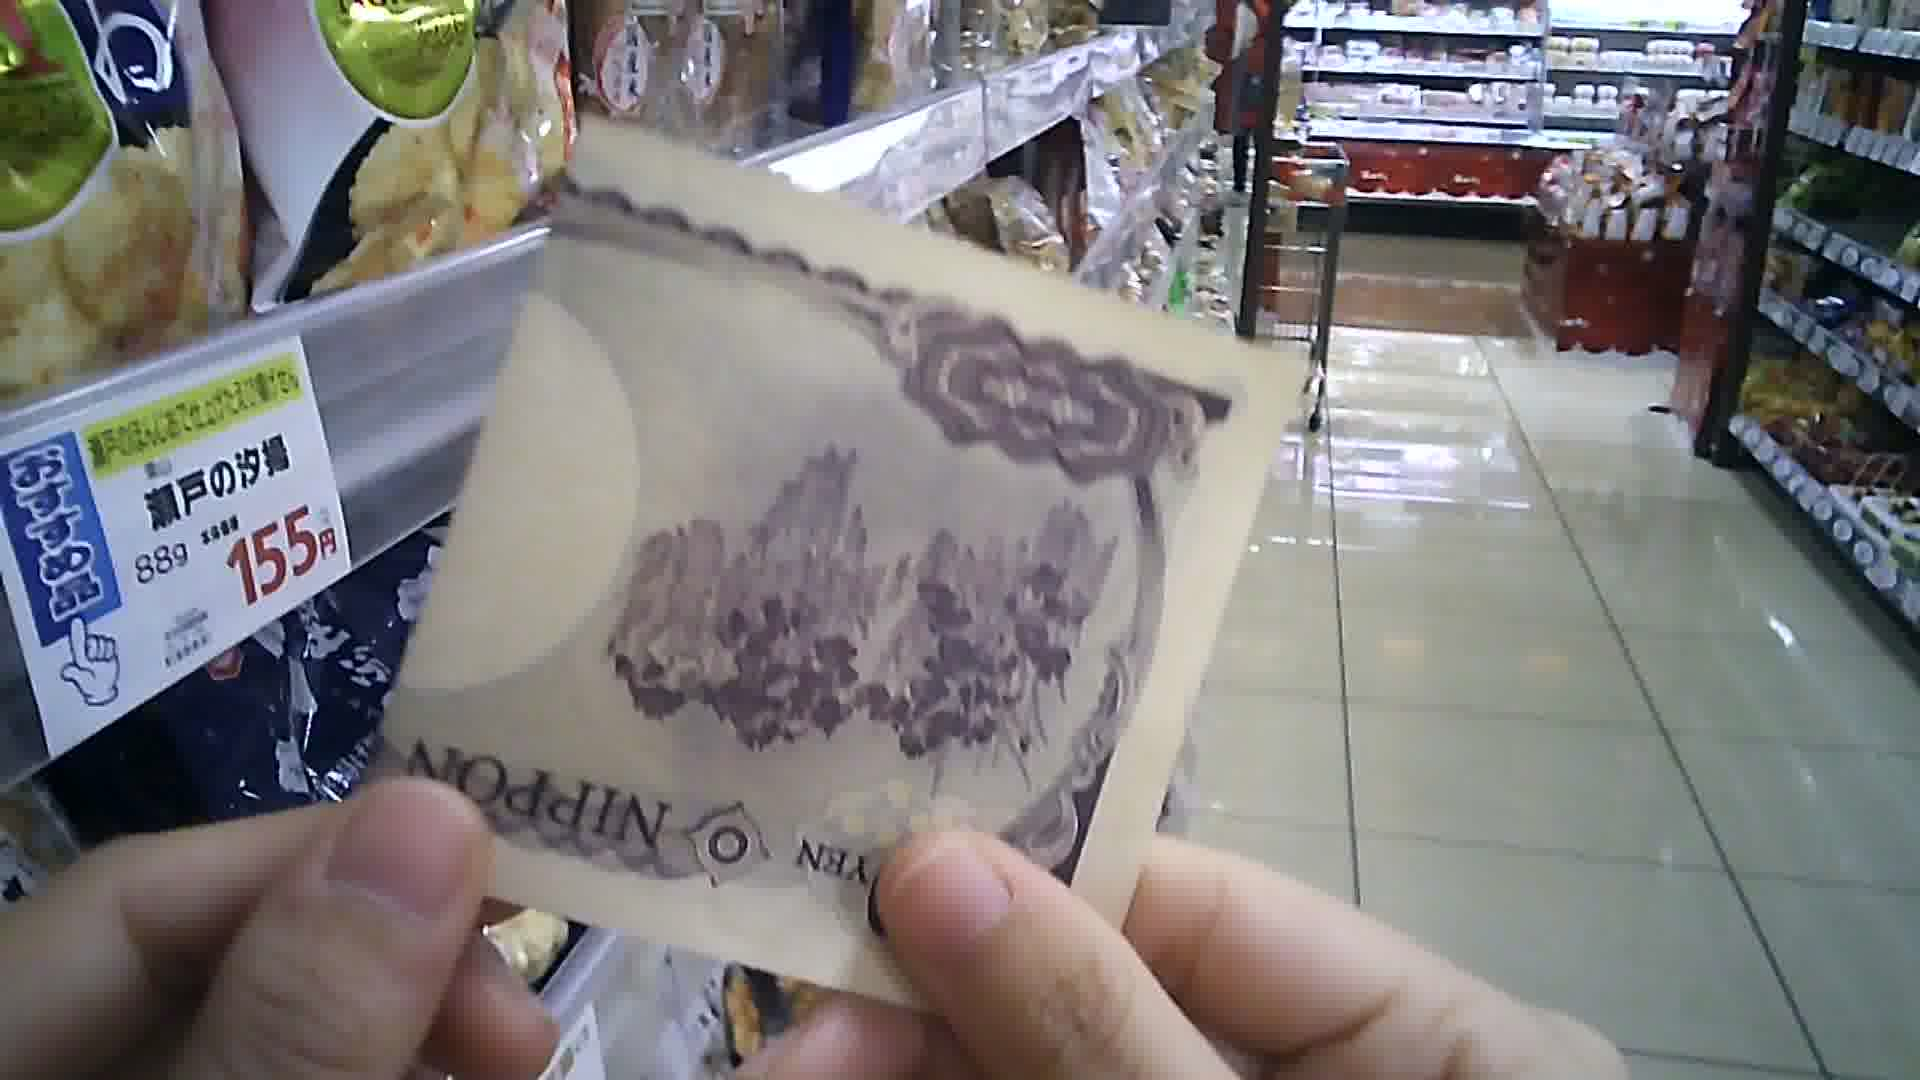5,000 Yen: (377, 117, 1302, 1031)
